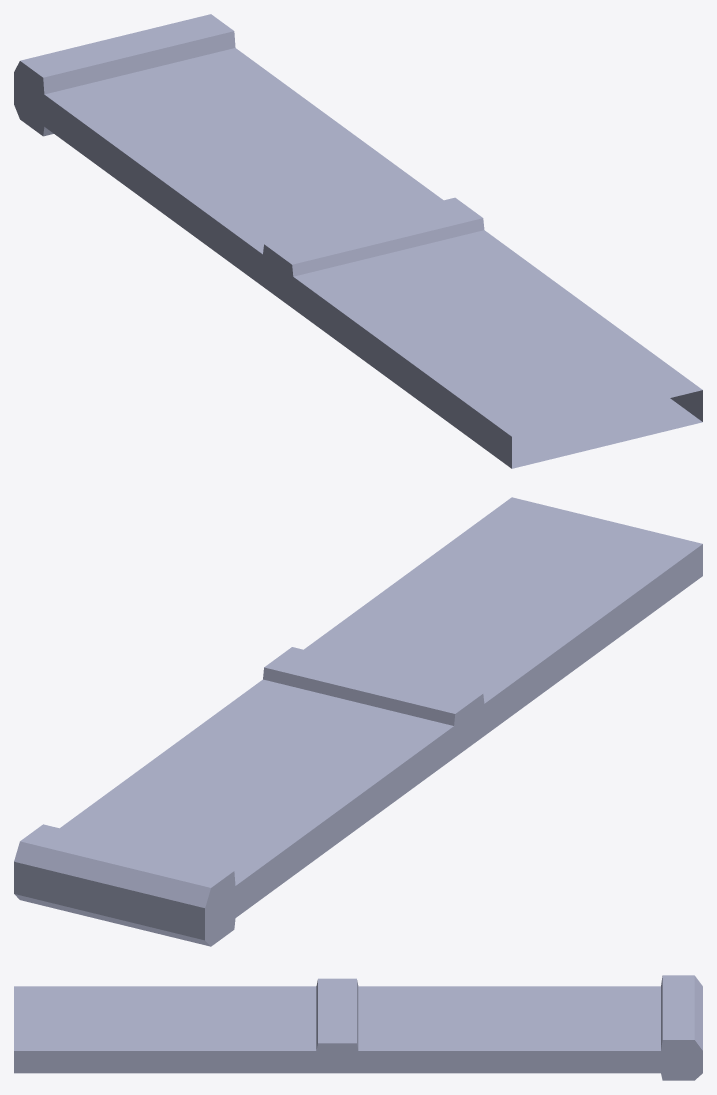
3 views of the same model, one above another, from view 1: azimuth 30°, elevation 25°; view 2: azimuth 150°, elevation 25°; view 3: azimuth 270°, elevation 25° (orthographic). The views are drawn at different scales.
Visible parts, largest first — view 1: Object110; view 2: Object110; view 3: Object110.
Boxes of the visible parts, <box> form: Object110: <box>14,14,702,468</box>; Object110: <box>14,497,702,946</box>; Object110: <box>14,975,702,1080</box>.
Bounding box in the file's own units: 8972 × 2636 × 40473.
